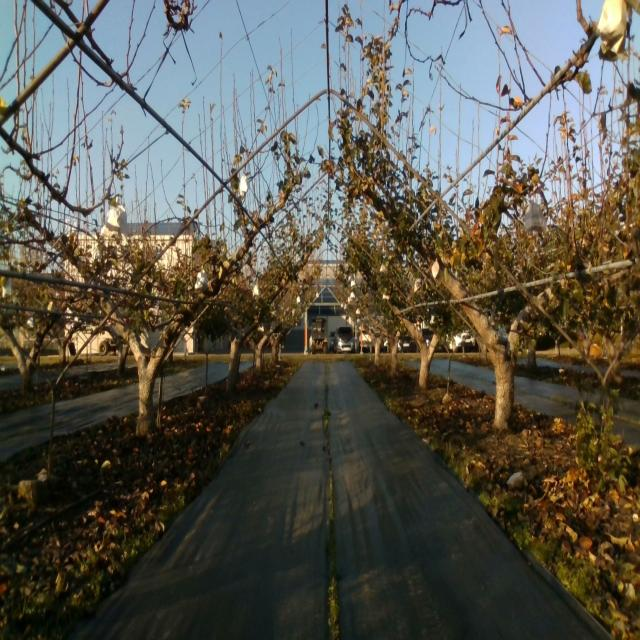pearbags: (98, 197, 134, 246), (596, 0, 627, 55), (523, 201, 549, 238), (195, 266, 209, 292)
